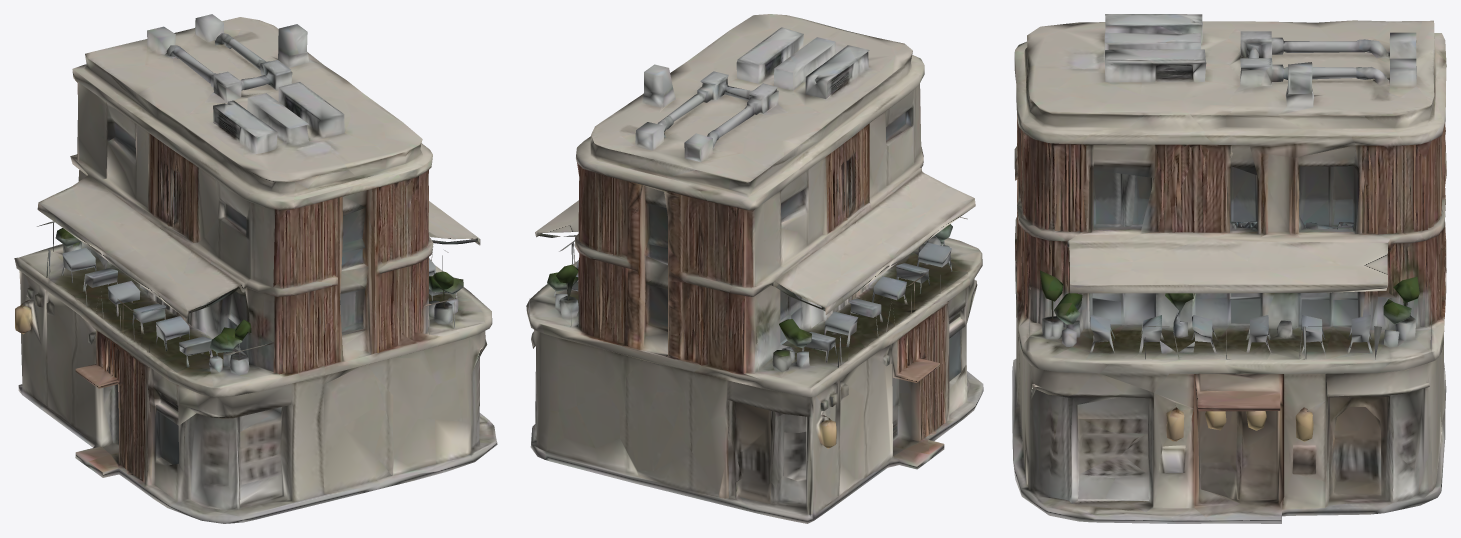
Rendered from au_bld_fanverse.glb.
The picture shows the model from 3 angles, left to right: view 1: azimuth 30°, elevation 25°; view 2: azimuth 150°, elevation 25°; view 3: azimuth 270°, elevation 25°; orthographic projection. The views are drawn at different scales.
Visible parts, largest first — view 1: tripo_node_1f01ef87-88bb-4741-97a0-23cae203acaa; view 2: tripo_node_1f01ef87-88bb-4741-97a0-23cae203acaa; view 3: tripo_node_1f01ef87-88bb-4741-97a0-23cae203acaa.
Part boxes in pixels (x1=…): tripo_node_1f01ef87-88bb-4741-97a0-23cae203acaa: x1=14, y1=14, x2=497, y2=523; tripo_node_1f01ef87-88bb-4741-97a0-23cae203acaa: x1=526, y1=14, x2=983, y2=523; tripo_node_1f01ef87-88bb-4741-97a0-23cae203acaa: x1=1012, y1=14, x2=1446, y2=523.
Size of the model in its own units: 0.9775 by 0.9593 by 0.9491.
1 material, 1 textured.
